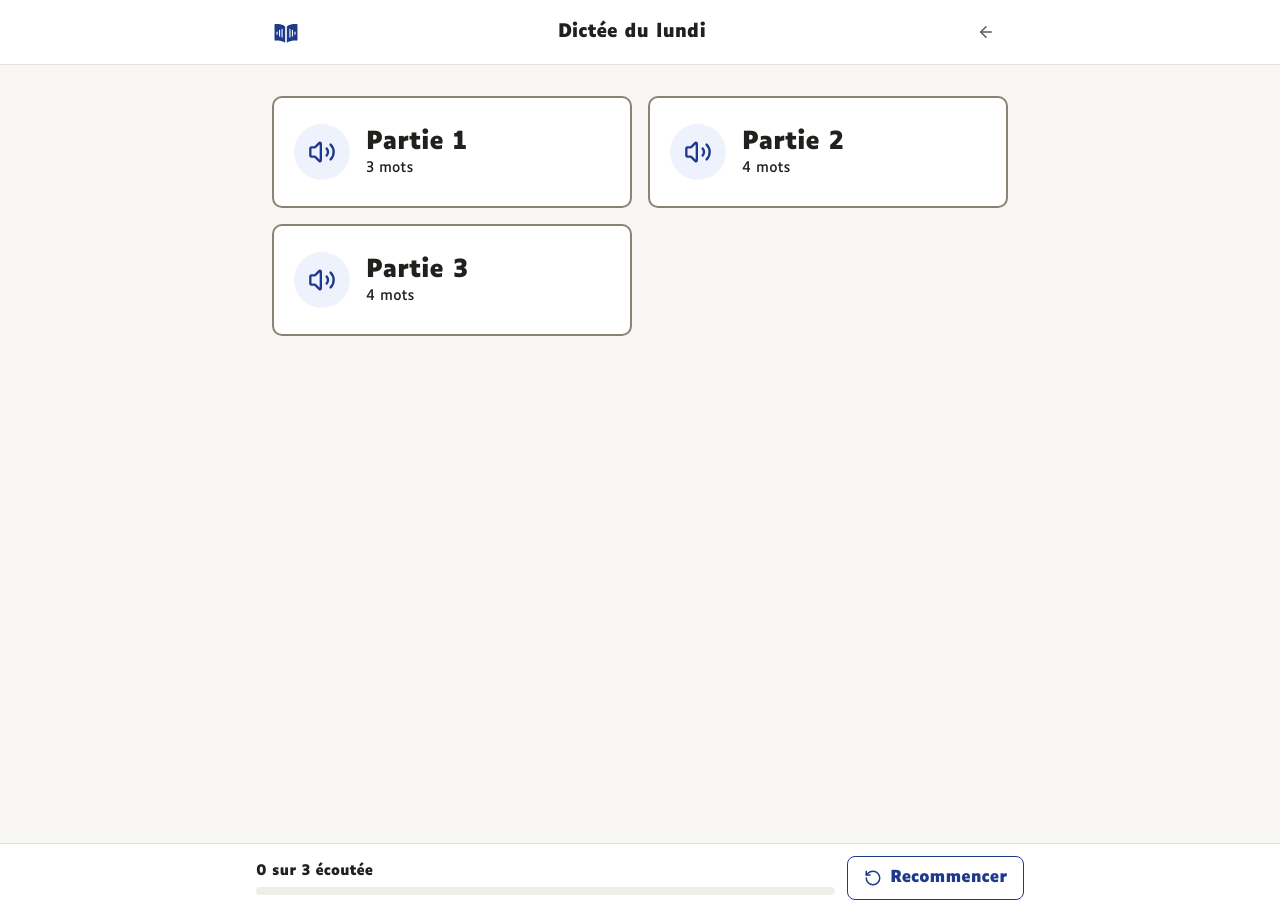
Mode élève › congratulates the pupil once every part has been heard
Click the button with aria-label "Écouter la partie 1" at (452, 152), box left=272, top=96, right=632, bottom=208
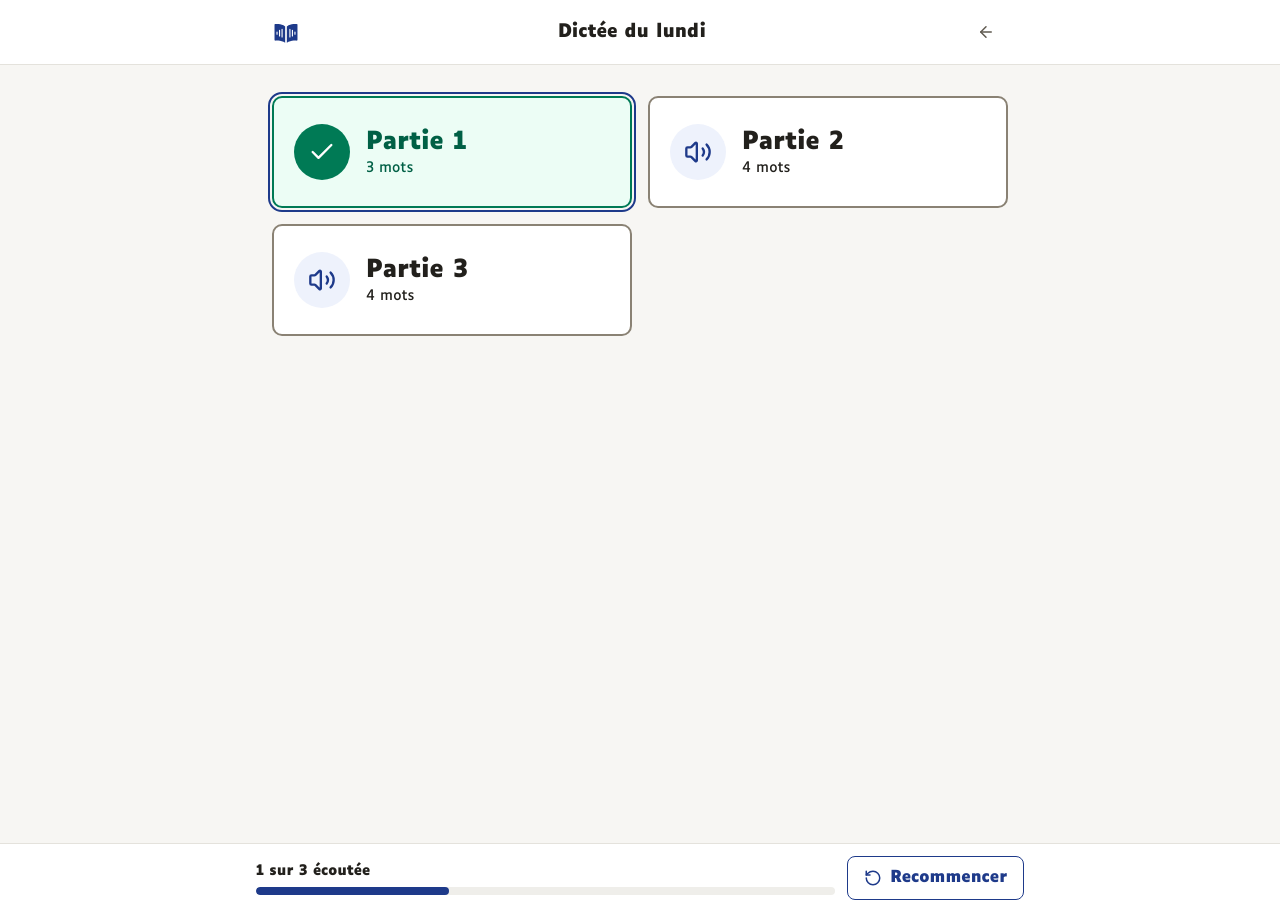
Click the button with aria-label "Écouter la partie 2" at (828, 152), box left=648, top=96, right=1008, bottom=208
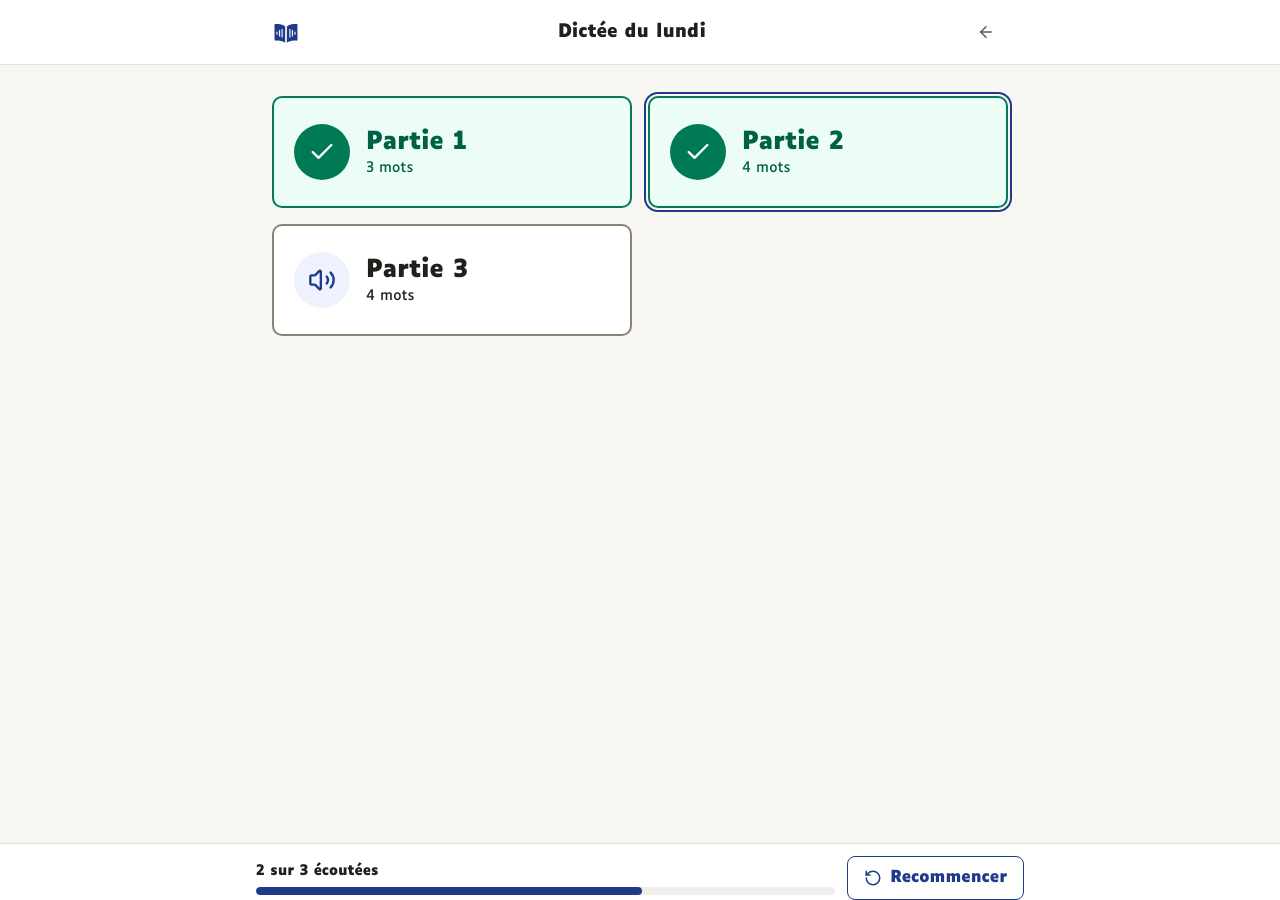
Click the button with aria-label "Écouter la partie 3" at (452, 280), box left=272, top=224, right=632, bottom=336
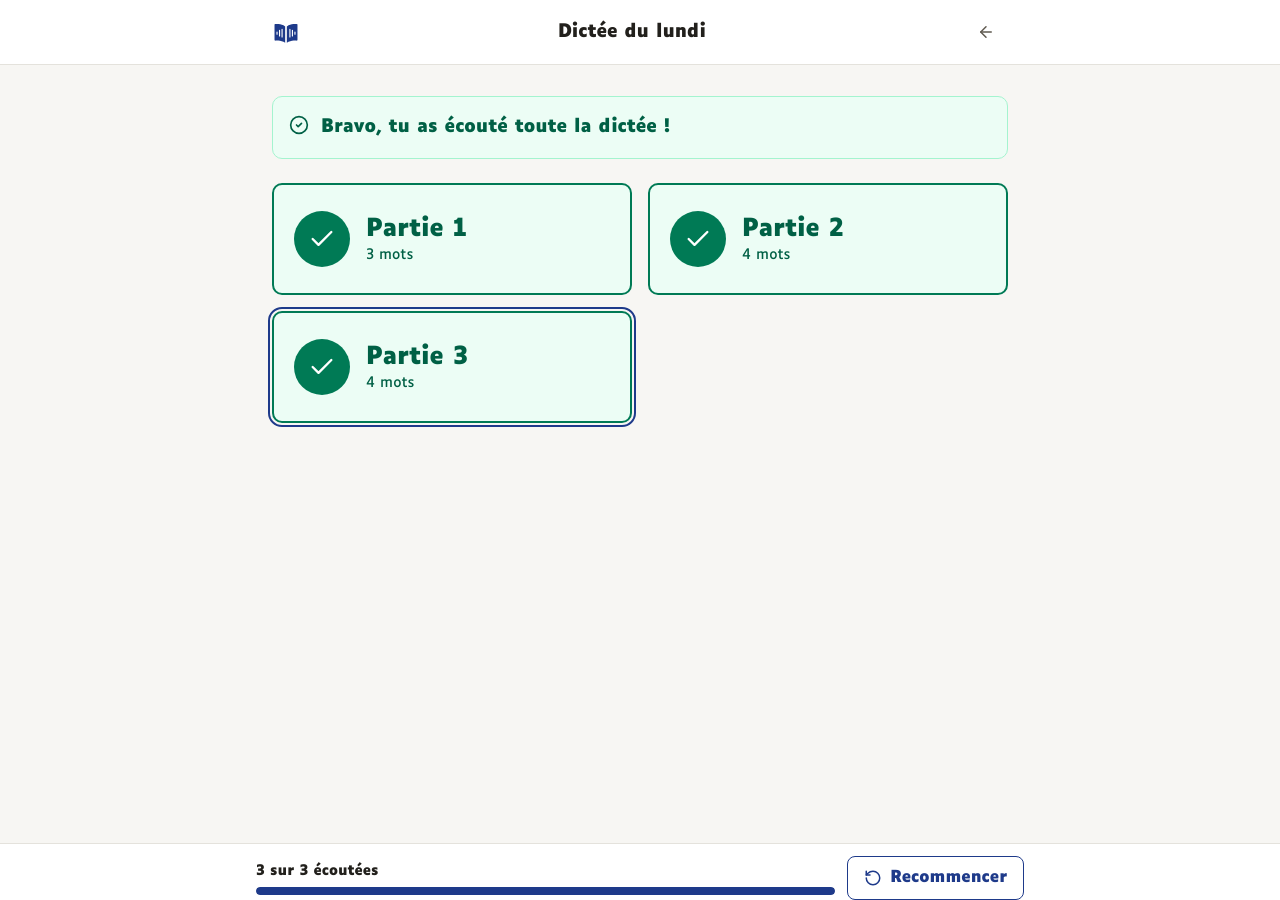
Check: the text "Bravo, tu as écouté toute la dictée !" is shown, box left=321, top=113, right=670, bottom=142
